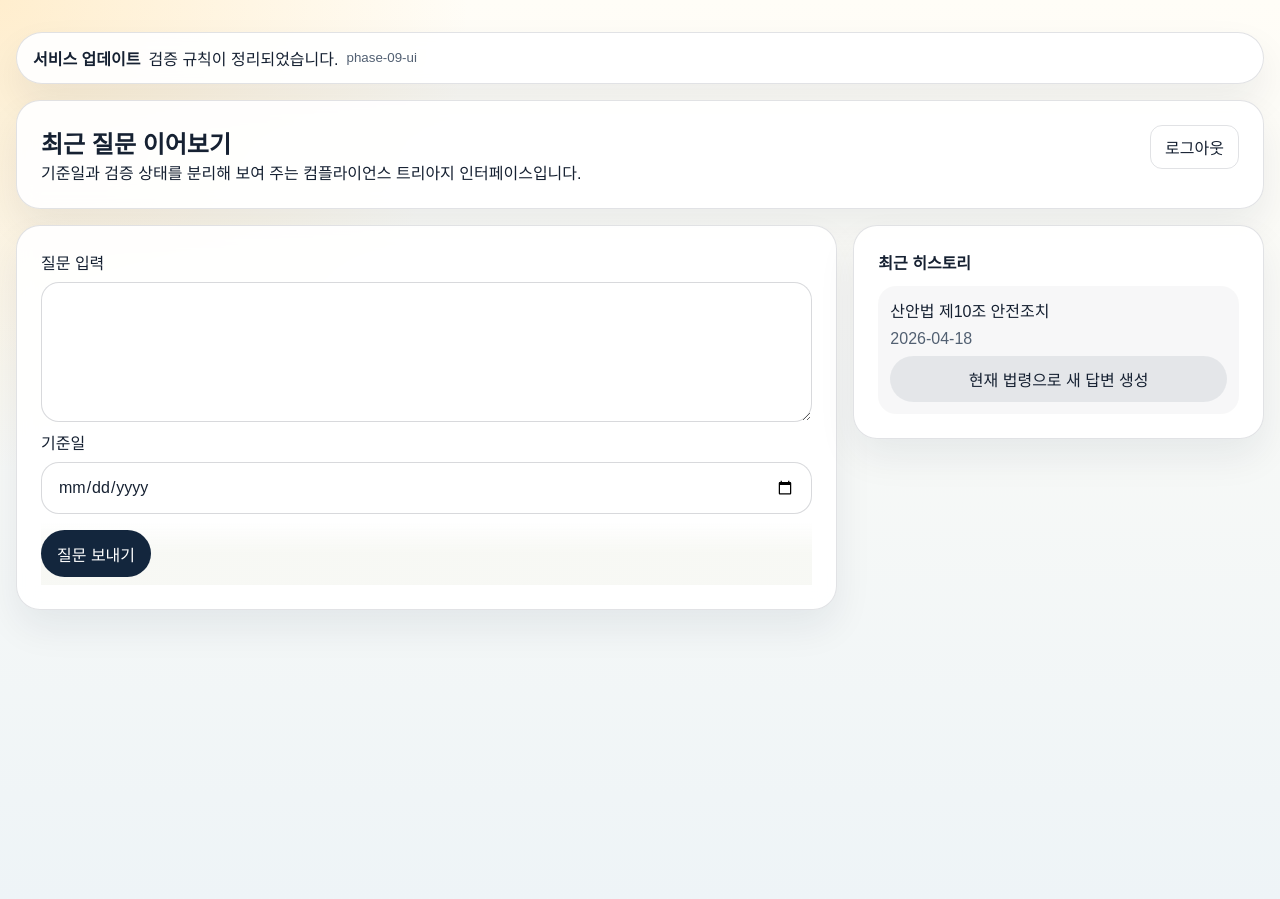
Scenario: AppShell › renders an answer packet from /api/ask
Type "산안법 제10조 안전조치" into the text box labelled "질문 입력" at point(427, 352), box [41,282,812,422]
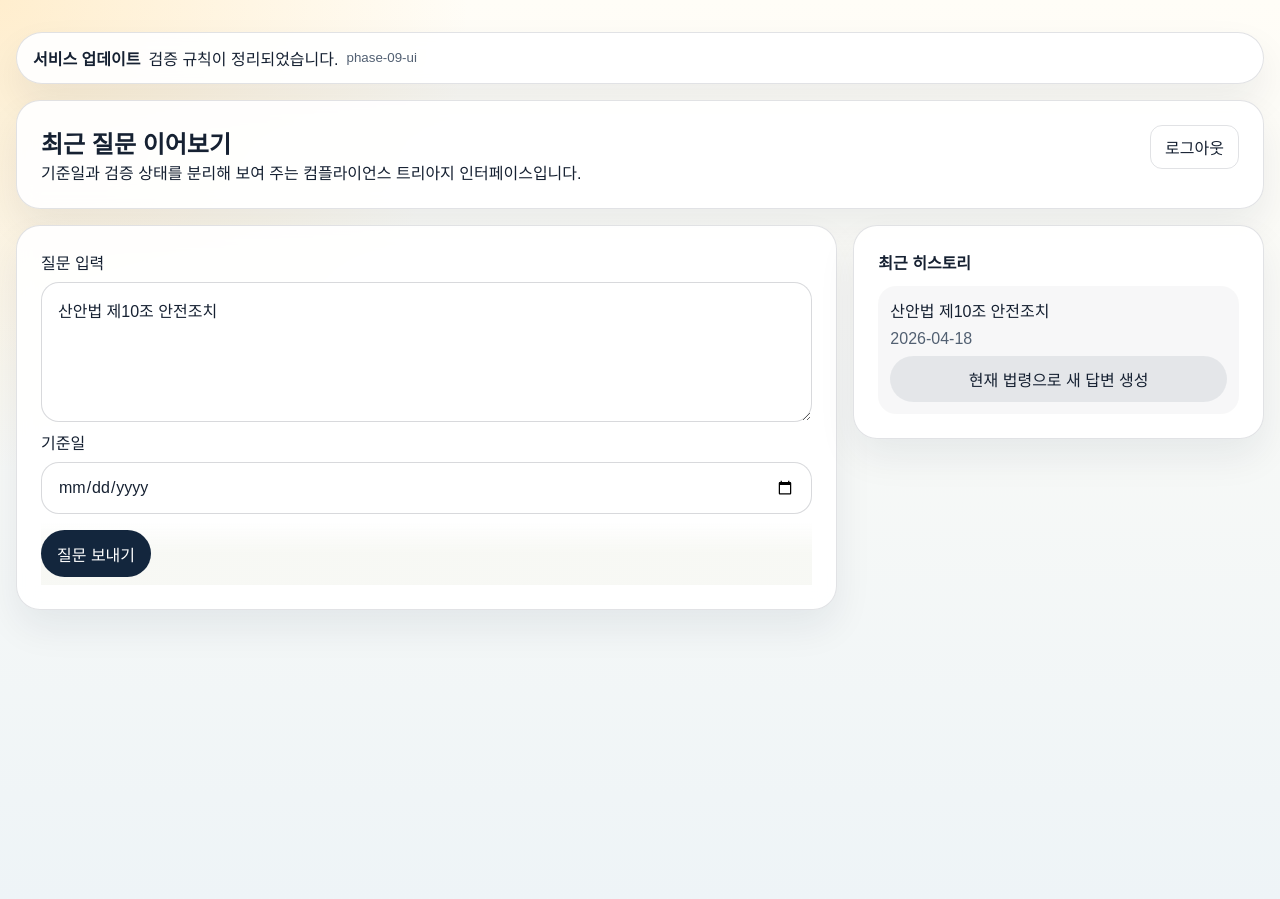
Type "2026-04-18" into the date field labelled "기준일" at point(427, 488), box [41,462,812,514]
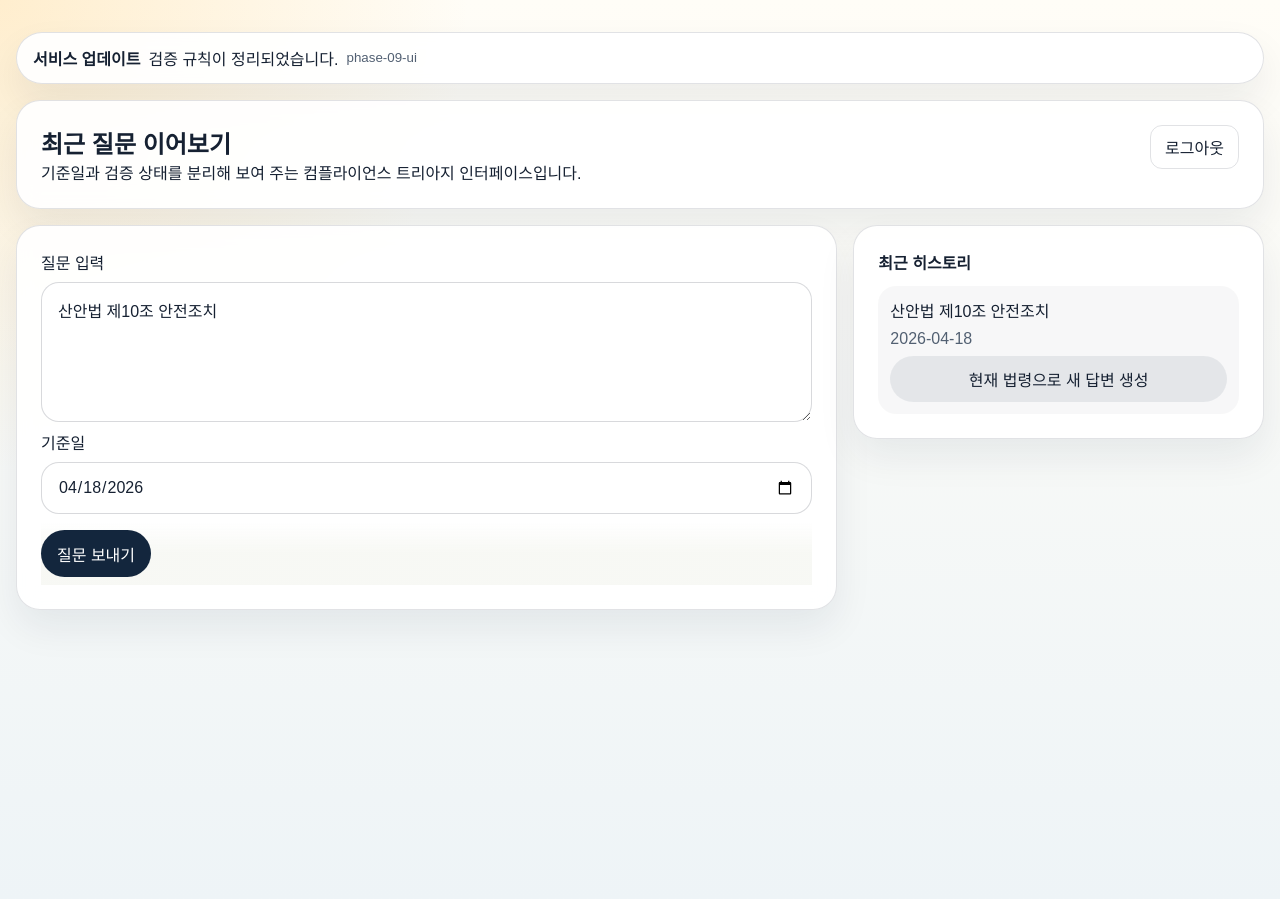
Click the button "질문 보내기" at point(96, 554), box [41,530,151,577]
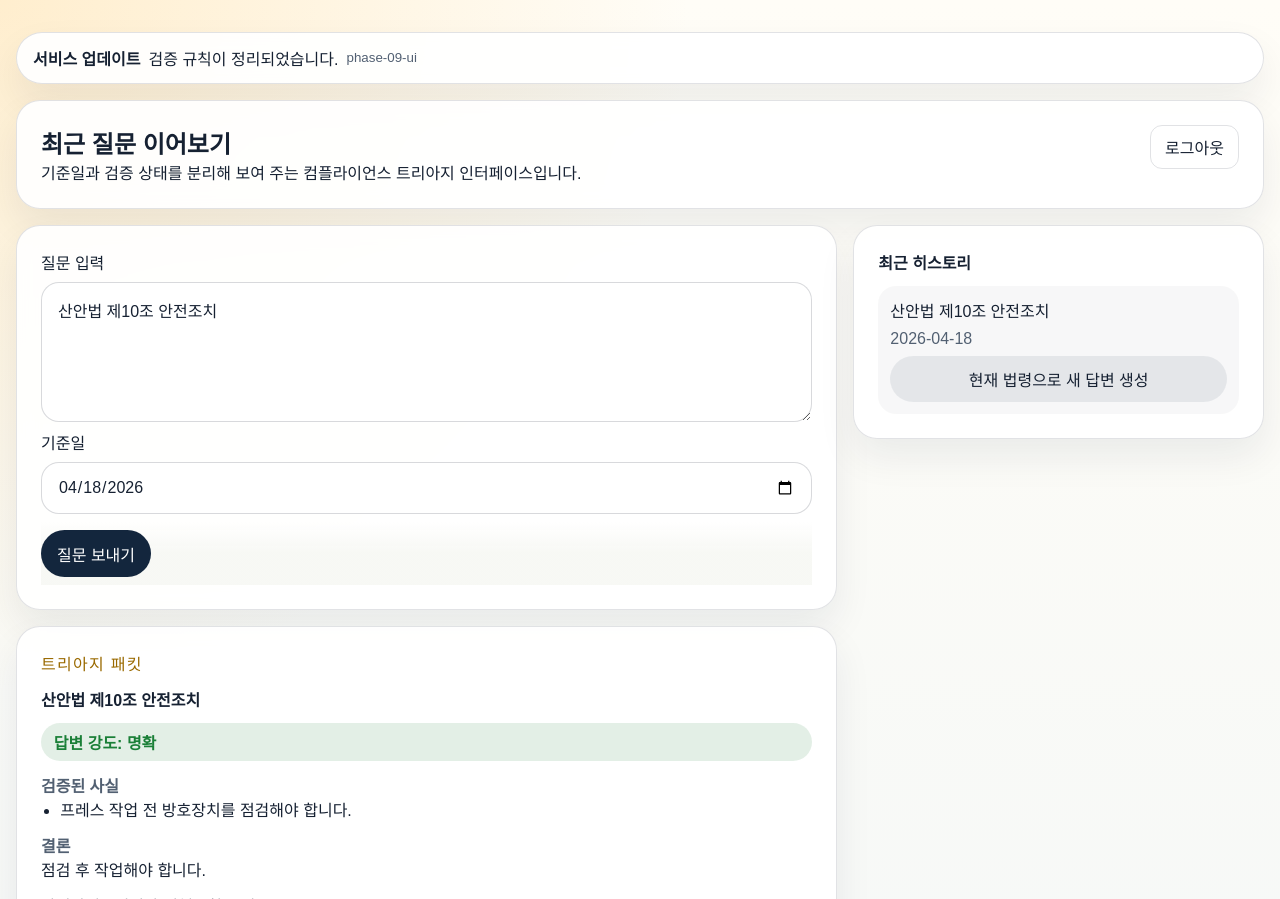
Check: the text "검증 규칙이 정리되었습니다." is shown, box [148,46,338,70]
Check: the text "점검 후 작업해야 합니다." is shown, box [41,862,206,879]
